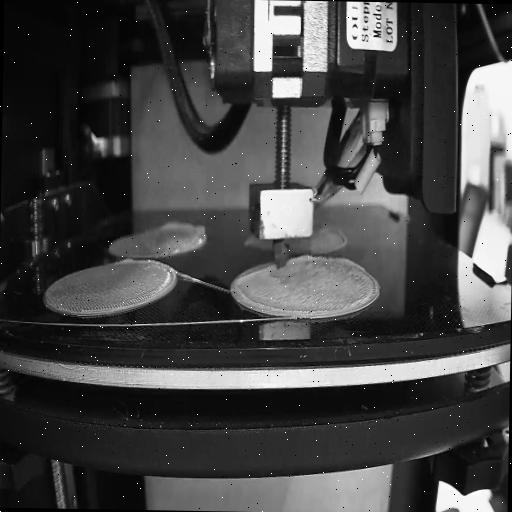over_extrusion: (160, 214, 206, 241), (240, 262, 276, 286), (336, 256, 366, 276), (335, 228, 348, 254), (290, 250, 310, 266), (113, 256, 138, 267)
